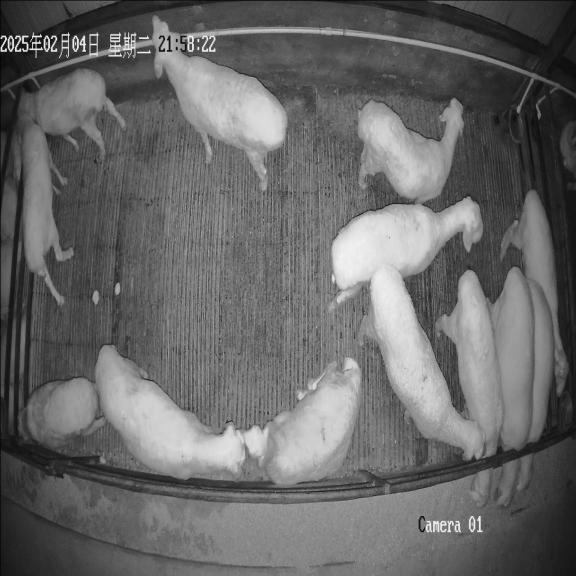drinking: (18, 110, 73, 305), (18, 68, 126, 160)
eating: (435, 270, 503, 506), (491, 267, 535, 506), (514, 278, 554, 491)
stand: (359, 267, 485, 460), (152, 16, 288, 191), (95, 345, 246, 479), (331, 197, 483, 303), (242, 358, 361, 485), (500, 189, 569, 397), (358, 98, 464, 204), (18, 378, 105, 449)
